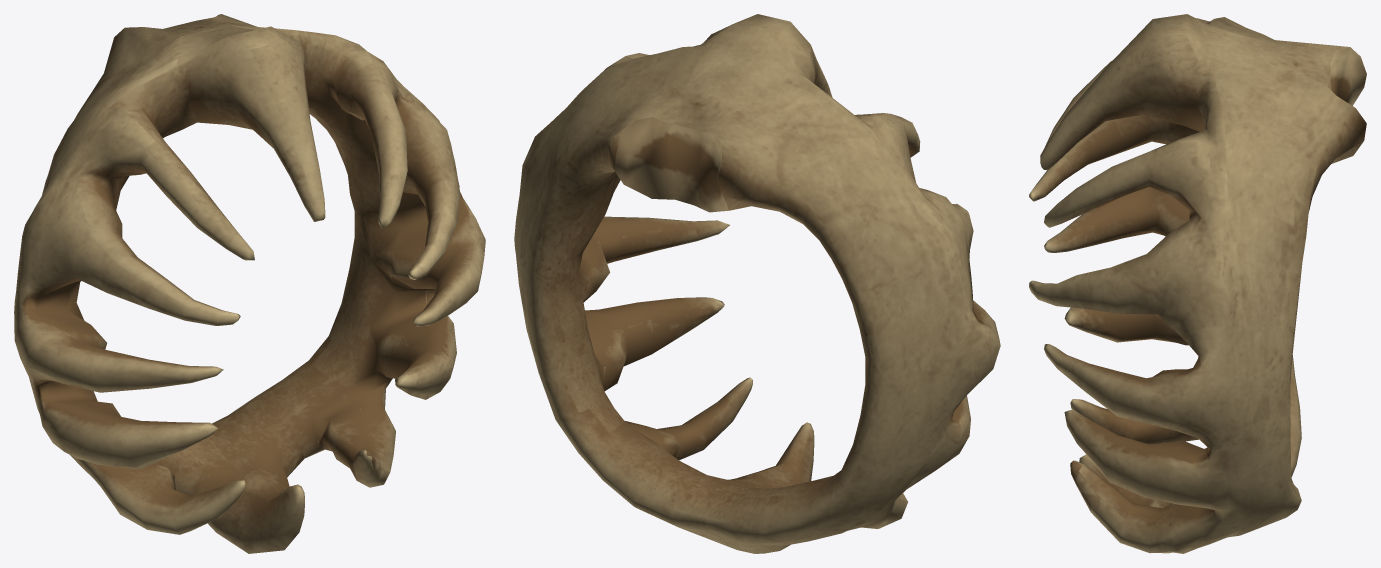
The model's file is worm_fossile_head.fbx.
The picture shows the model from 3 angles, left to right: view 1: azimuth 30°, elevation 25°; view 2: azimuth 150°, elevation 25°; view 3: azimuth 270°, elevation 25°; orthographic projection. The views are drawn at different scales.
Visible parts, largest first — view 1: worm_head_l; view 2: worm_head_l; view 3: worm_head_l.
Part boxes in pixels (bbox=[...]): worm_head_l: bbox=[14, 14, 485, 553]; worm_head_l: bbox=[514, 14, 1000, 553]; worm_head_l: bbox=[1029, 14, 1366, 553].
Bounding box in the file's own units: 1551 × 1667 × 967.
1 material, 1 textured.
